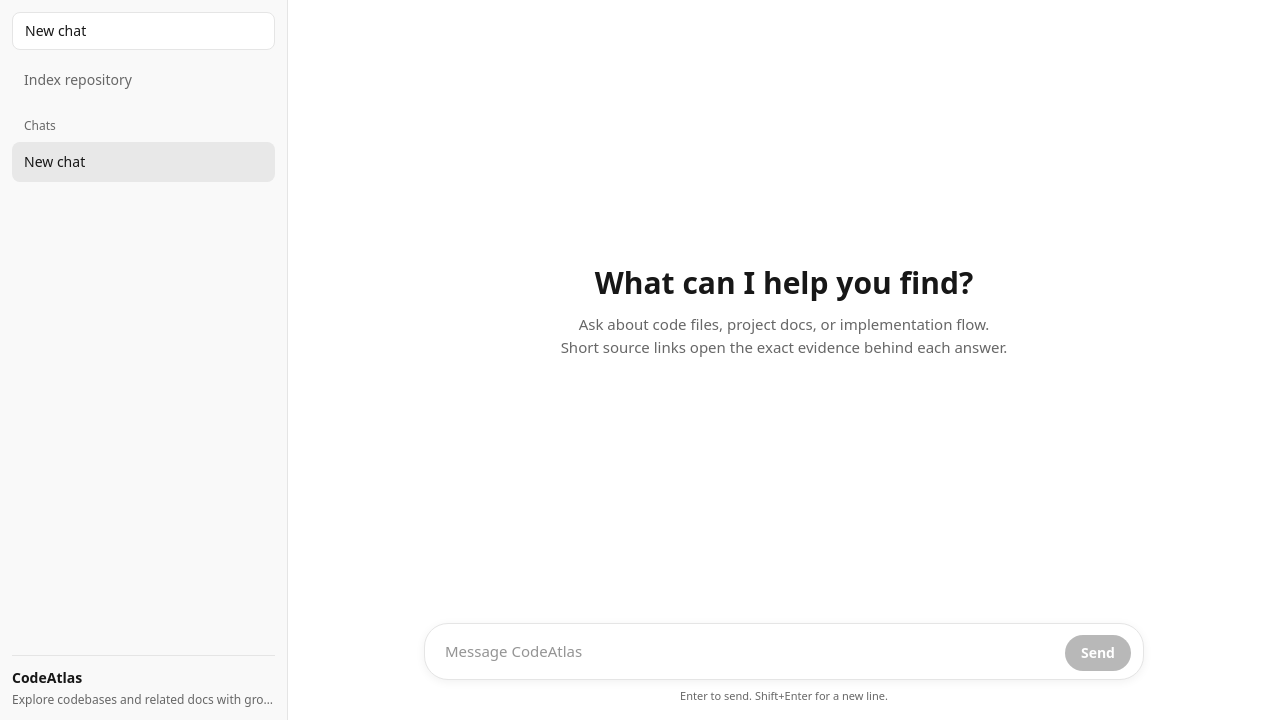
Scenario: ChatView smoke test › stores chats in local history
In the text box named "Question": (747, 651) [437,632,1057,670], type "where is auth handled?"
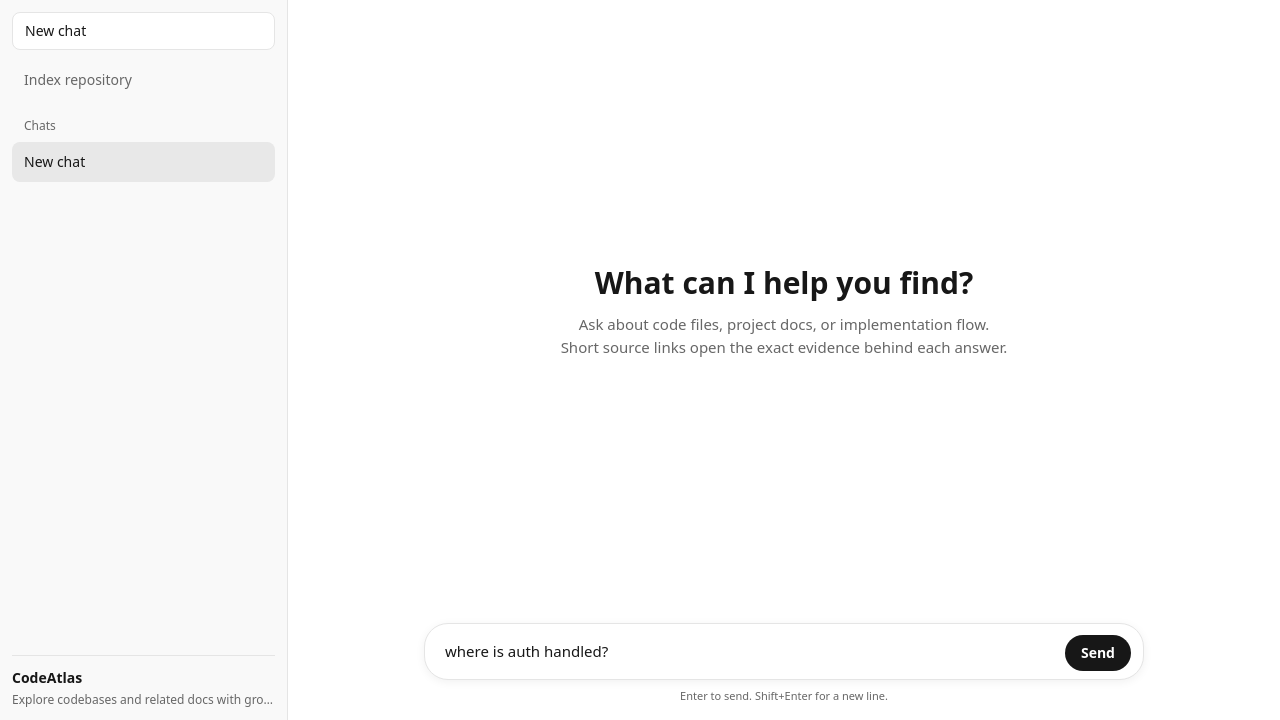
Click the button "Send": click(1098, 652) [1065,634,1131,670]
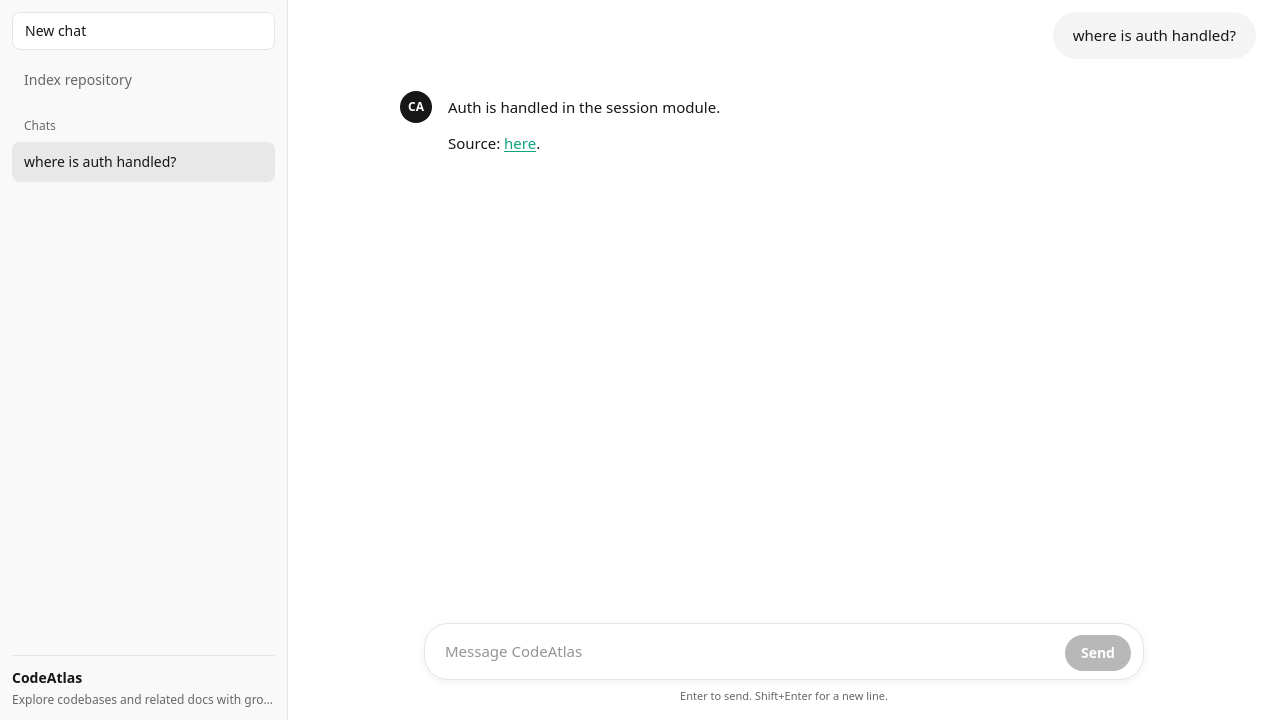
Expected: the button "where is auth handled?" is shown, [24,152,231,172]
